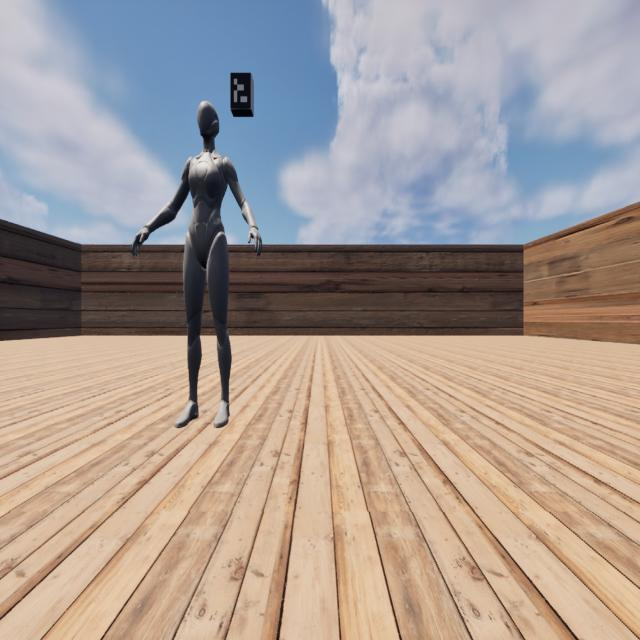aruco: (230, 72, 251, 109)
hip: (184, 234, 227, 250)
